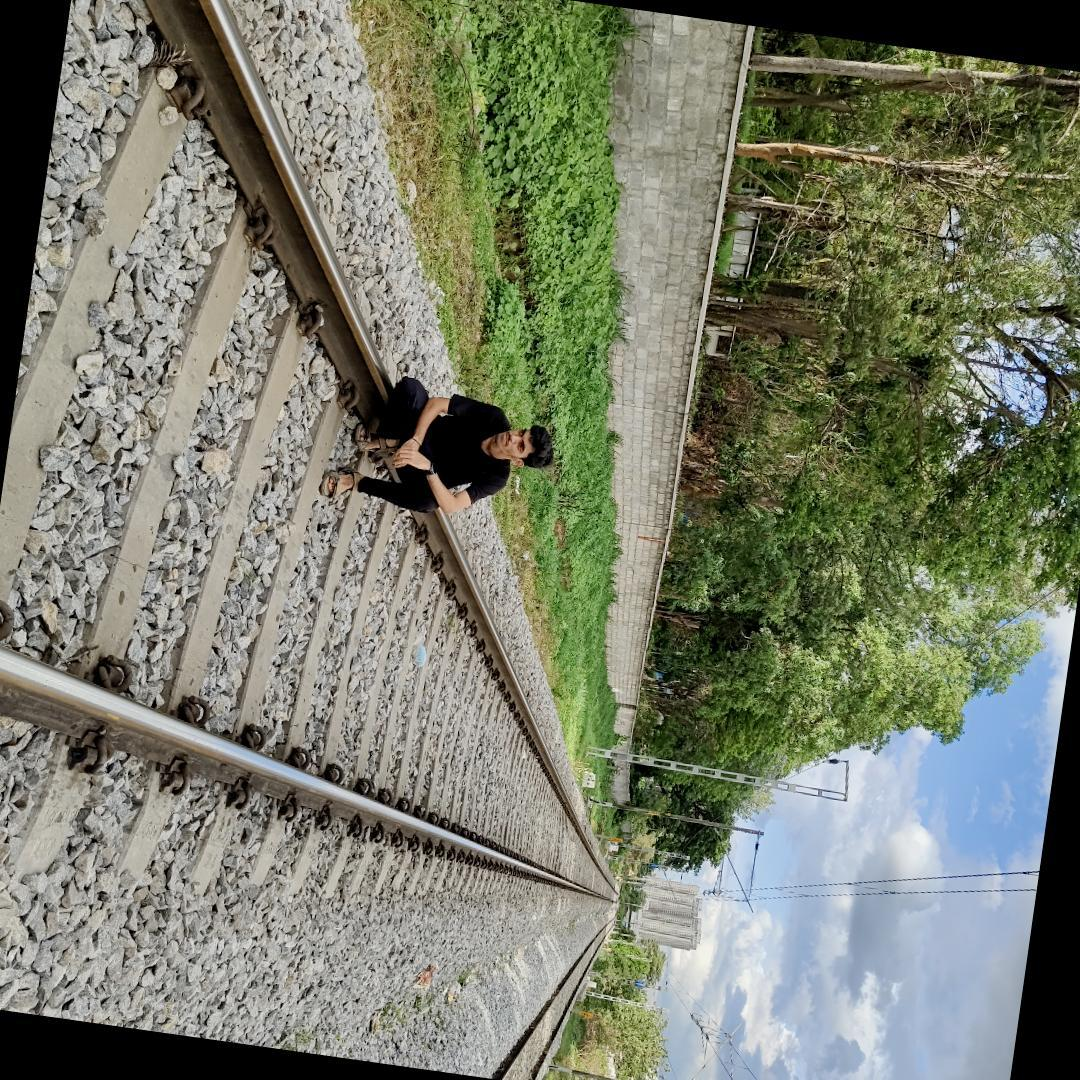sitting: (316, 360, 558, 540)
